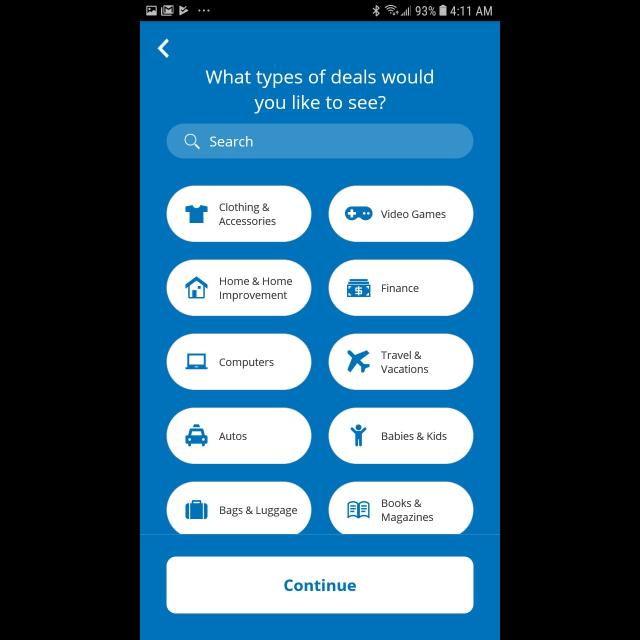icon: (185, 276, 207, 298), (186, 500, 208, 520), (346, 279, 370, 297), (346, 501, 369, 519), (185, 134, 201, 150), (158, 39, 170, 59)
image: (186, 424, 208, 448), (346, 350, 369, 372), (345, 206, 373, 222), (349, 424, 366, 448), (186, 205, 208, 223), (186, 353, 208, 369)
input: (166, 124, 474, 158)
text: (206, 70, 434, 114), (210, 136, 253, 148)
textbutton: (166, 556, 474, 614), (166, 258, 312, 316), (167, 334, 313, 391), (328, 334, 474, 391), (166, 185, 312, 242), (328, 185, 474, 242), (328, 408, 474, 464), (166, 408, 312, 464), (328, 260, 474, 316), (167, 482, 313, 534), (328, 482, 474, 534)
uppertaskbar: (140, 1, 500, 22)
